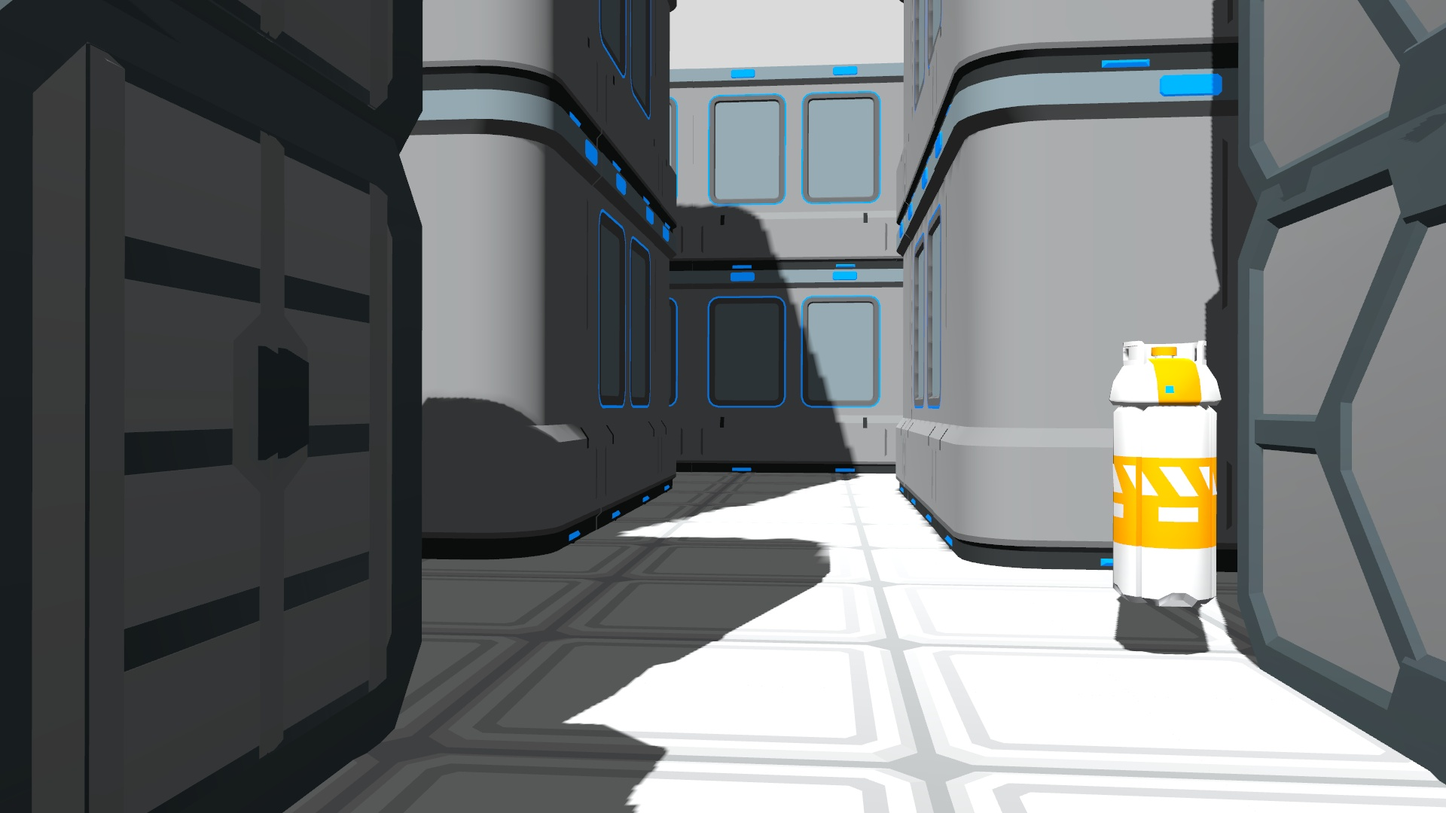yellow_barrel: (1107, 332, 1225, 615)
